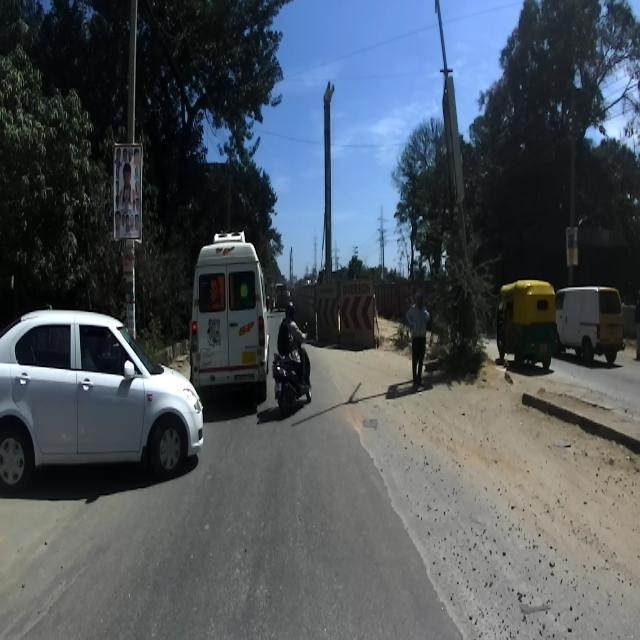car ahead at: (0, 295, 204, 484)
motorcycle ahead at: (272, 347, 314, 418)
person ahead at: (404, 290, 428, 395)
